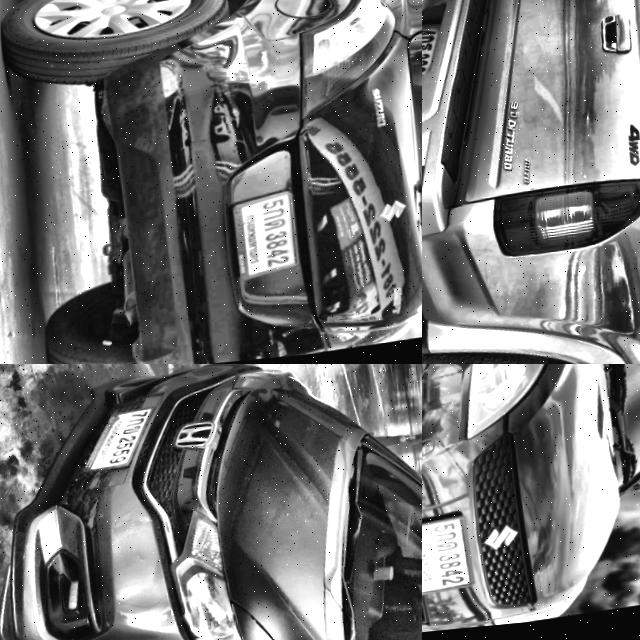license-plate: (227, 197, 292, 289), (79, 410, 162, 478), (422, 521, 468, 598), (422, 18, 452, 98)
